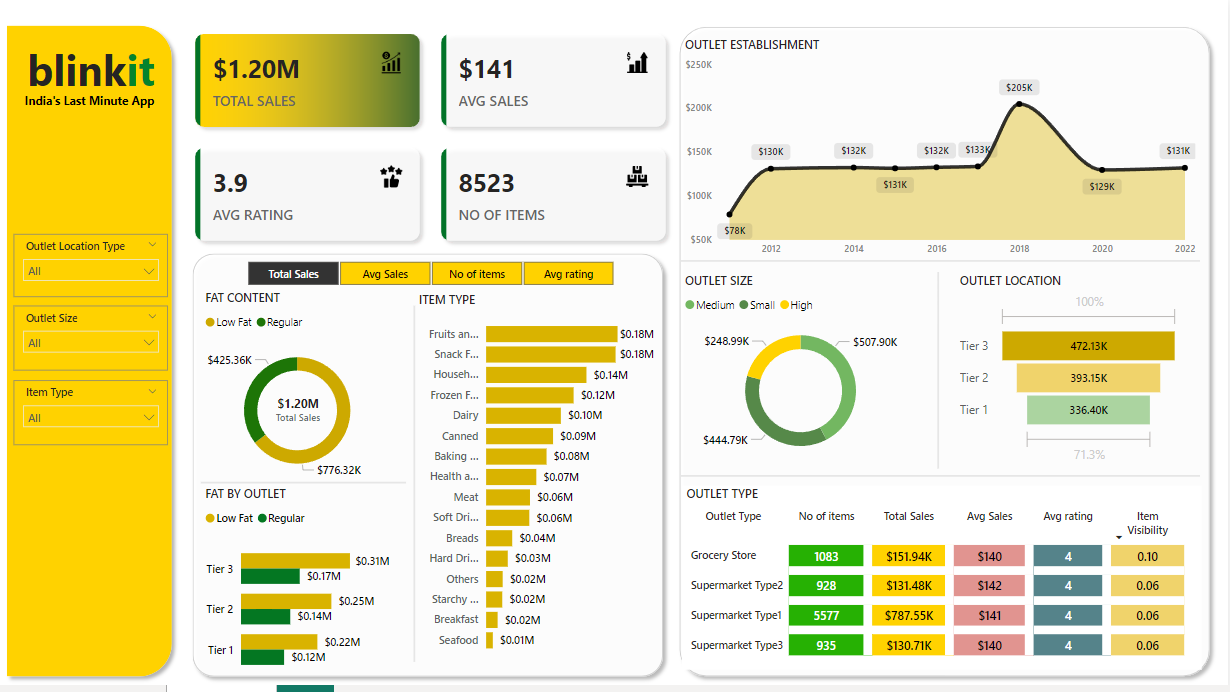

Layout of this report page (visuals, bound fields, positions):
{"tool":"powerbi","page":{"name":"Page 1","canvas":[1400,800],"ordinal":0},"visuals":[{"type":"shape","box":[0,20,206,760],"z":0},{"type":"textbox","box":[0,100,206,40],"z":1000},{"type":"textbox","box":[16,42,176,82],"z":2000},{"type":"cardVisual","fields":{"Data":["BlinkIT Grocery Data.Total Sales","BlinkIT Grocery Data.Avg Sales","BlinkIT Grocery Data.Avg rating","BlinkIT Grocery Data.No of items"]},"box":[206,22,570,270],"z":3000},{"type":"shape","box":[212,280,554,500],"z":4000},{"type":"slicer","fields":{"Values":["Metrics.Metrics"]},"box":[258,292,466,40],"z":5000},{"type":"donutChart","title":"FAT CONTENT","fields":{"Y":["BlinkIT Grocery Data.Total Sales"],"Category":["BlinkIT Grocery Data.Item Fat Content"]},"box":[230,330,220,230],"z":6000},{"type":"cardVisual","fields":{"Data":["BlinkIT Grocery Data.Total Sales"]},"box":[276,434,128,58],"z":7000},{"type":"clusteredBarChart","title":"FAT BY OUTLET","fields":{"Y":["BlinkIT Grocery Data.Total Sales"],"Category":["BlinkIT Grocery Data.Outlet Location Type"],"Series":["BlinkIT Grocery Data.Item Fat Content"]},"box":[230,554,220,230],"z":8000},{"type":"shape","box":[230,540,234,20],"z":9000},{"type":"shape","box":[464,348,20,406],"z":10000},{"type":"barChart","title":"ITEM TYPE","fields":{"Y":["BlinkIT Grocery Data.Total Sales"],"Category":["BlinkIT Grocery Data.Item Type"]},"box":[474,332,278,422],"z":11000},{"type":"shape","box":[766,22,622,758],"z":12000},{"type":"lineChart","title":"OUTLET ESTABLISHMENT","fields":{"Category":["BlinkIT Grocery Data.Outlet Establishment Year"],"Y":["BlinkIT Grocery Data.Total Sales"]},"box":[776,42,592,260],"z":13000},{"type":"shape","box":[776,284,592,28],"z":14000},{"type":"donutChart","title":"OUTLET SIZE","fields":{"Y":["BlinkIT Grocery Data.Total Sales"],"Category":["BlinkIT Grocery Data.Outlet Size"]},"box":[776,310,274,225],"z":15000},{"type":"shape","box":[1058,310,24,224],"z":16000},{"type":"funnel","title":"OUTLET LOCATION","fields":{"Y":["Sum(BlinkIT Grocery Data.Sales)"],"Category":["BlinkIT Grocery Data.Outlet Location Type"]},"box":[1090,310,260,224],"z":17000},{"type":"shape","box":[776,534,592,18],"z":17001},{"type":"pivotTable","title":"OUTLET TYPE","fields":{"Rows":["BlinkIT Grocery Data.Outlet Type"],"Values":["BlinkIT Grocery Data.No of items","BlinkIT Grocery Data.Total Sales","BlinkIT Grocery Data.Avg Sales","BlinkIT Grocery Data.Avg rating","Avg(BlinkIT Grocery Data.Item Visibility)"]},"box":[778,554,592,210],"z":17002},{"type":"slicer","fields":{"Values":["BlinkIT Grocery Data.Outlet Location Type"]},"box":[16,266,176,72],"z":17003},{"type":"slicer","fields":{"Values":["BlinkIT Grocery Data.Outlet Size"]},"box":[16,348,176,74],"z":17004},{"type":"slicer","fields":{"Values":["BlinkIT Grocery Data.Item Type"]},"box":[16,434,176,74],"z":17005}]}

Visuals, with their boxes in screenshot pixels (x1, y1, x2, y2), scaled from the page's 1400x800 canvas onto the 1230x692 screenshot:
shape: l=0, t=17, r=181, b=675
textbox: l=0, t=86, r=181, b=121
textbox: l=14, t=36, r=169, b=107
cardVisual - BlinkIT Grocery Data.Total Sales x BlinkIT Grocery Data.Avg Sales: l=181, t=19, r=682, b=253
shape: l=186, t=242, r=673, b=675
slicer - Metrics.Metrics: l=227, t=253, r=636, b=287
"FAT CONTENT" donutChart: l=202, t=285, r=395, b=484
cardVisual - BlinkIT Grocery Data.Total Sales: l=242, t=375, r=355, b=426
"FAT BY OUTLET" clusteredBarChart: l=202, t=479, r=395, b=678
shape: l=202, t=467, r=408, b=484
shape: l=408, t=301, r=425, b=652
"ITEM TYPE" barChart: l=416, t=287, r=661, b=652
shape: l=673, t=19, r=1219, b=675
"OUTLET ESTABLISHMENT" lineChart: l=682, t=36, r=1202, b=261
shape: l=682, t=246, r=1202, b=270
"OUTLET SIZE" donutChart: l=682, t=268, r=922, b=463
shape: l=930, t=268, r=951, b=462
"OUTLET LOCATION" funnel: l=958, t=268, r=1186, b=462
shape: l=682, t=462, r=1202, b=477
"OUTLET TYPE" pivotTable: l=684, t=479, r=1204, b=661
slicer - BlinkIT Grocery Data.Outlet Location Type: l=14, t=230, r=169, b=292
slicer - BlinkIT Grocery Data.Outlet Size: l=14, t=301, r=169, b=365
slicer - BlinkIT Grocery Data.Item Type: l=14, t=375, r=169, b=439
